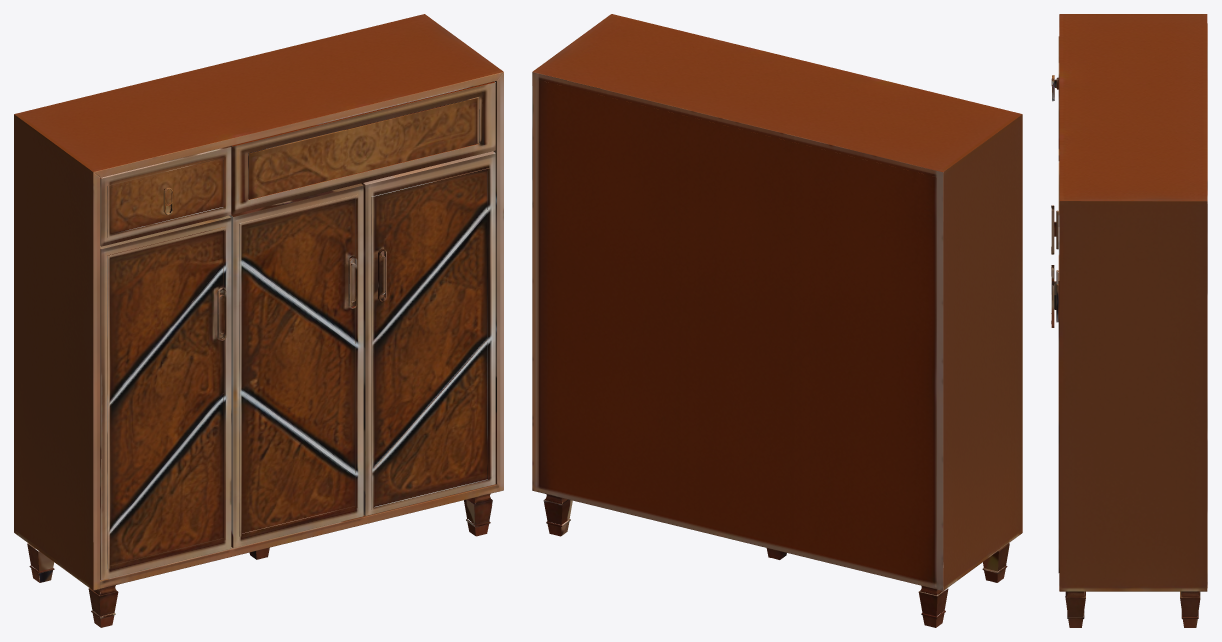
The model's file is edited_mesh.glb.
3 views of the same model, side by side, from view 1: azimuth 30°, elevation 25°; view 2: azimuth 150°, elevation 25°; view 3: azimuth 270°, elevation 25° (orthographic). The views are drawn at different scales.
Visible parts, largest first — view 1: solid_001_wire; view 2: solid_001_wire; view 3: solid_001_wire.
Part boxes in pixels (x1,y1,x2,y2): solid_001_wire: [14, 14, 503, 627]; solid_001_wire: [532, 14, 1022, 627]; solid_001_wire: [1051, 14, 1207, 627].
Bounding box in the file's own units: 1.27 × 1.37 × 0.4471.
Materials: 1 (1 with a texture image).
